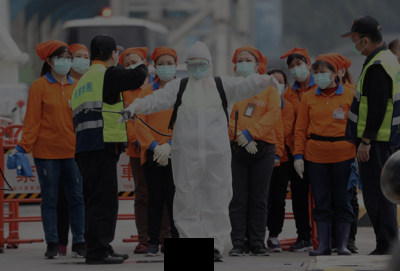with_mask: (155, 60, 177, 83), (52, 53, 73, 76), (235, 57, 257, 78), (289, 60, 309, 83), (189, 59, 210, 80), (72, 53, 92, 75), (313, 68, 333, 90), (351, 35, 364, 59), (112, 51, 120, 68)
